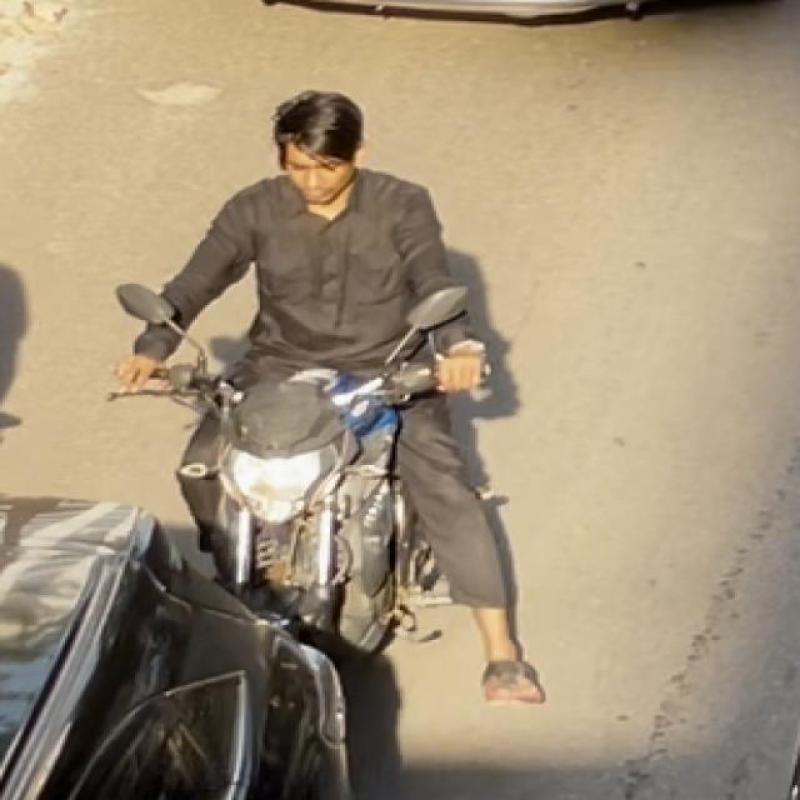nohelmet: (267, 68, 408, 228)
